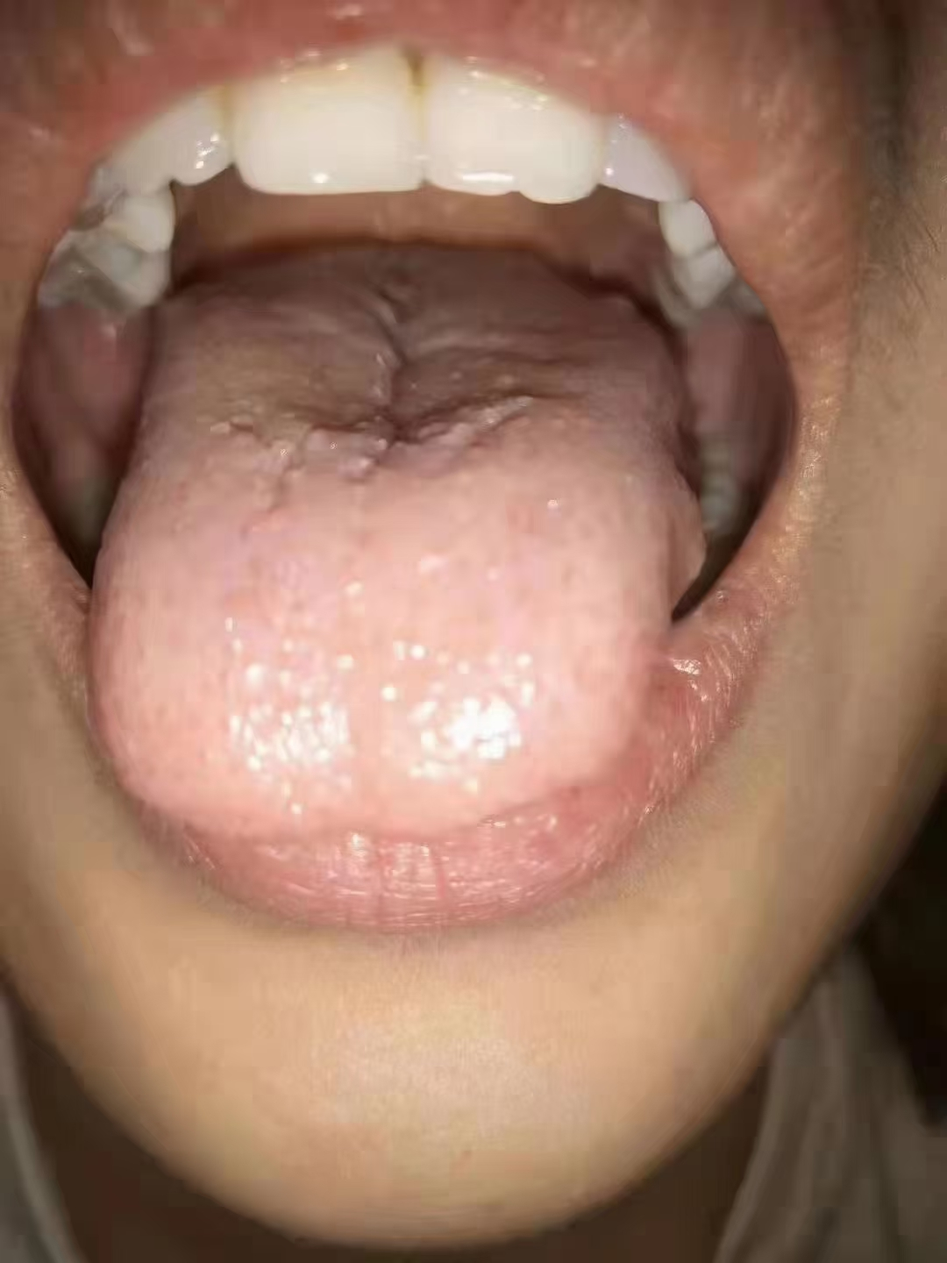chihenshe: (633, 385, 715, 635)
liewenshe: (211, 275, 595, 476)
